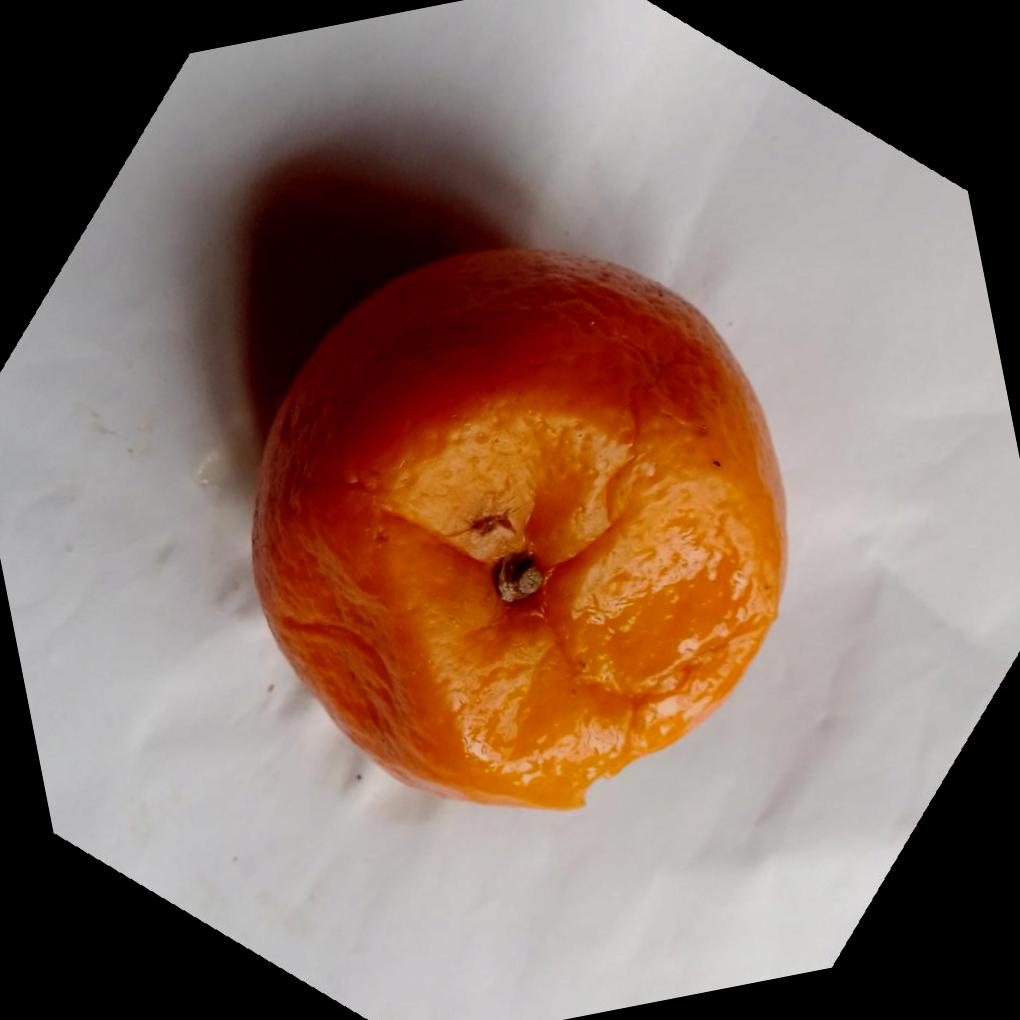FreshOrange: (243, 244, 790, 817)
